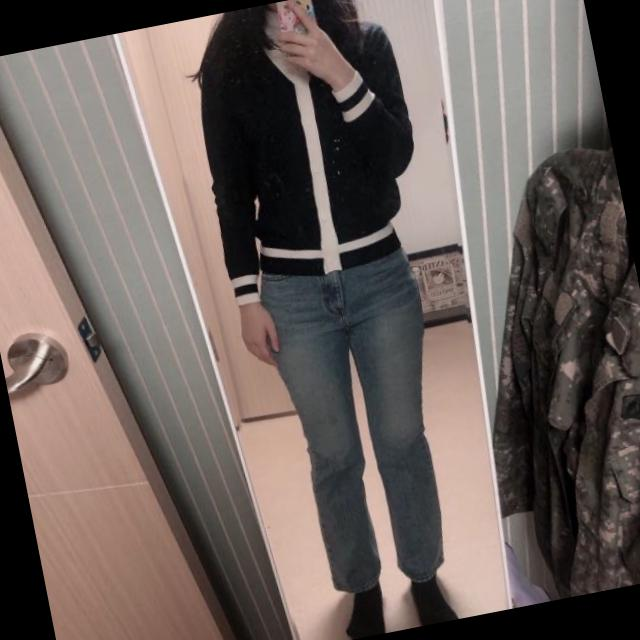cardigan: (183, 7, 440, 307)
denimpants: (251, 244, 476, 602)
